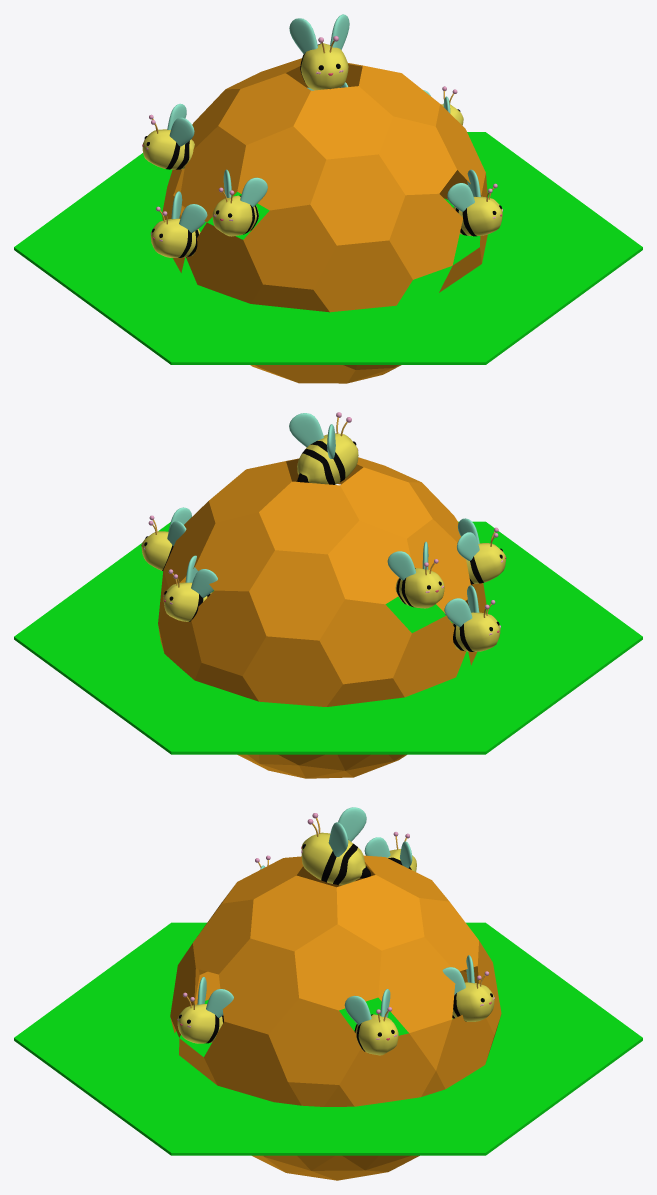
The model's file is Figuras06.glb.
3 views of the same model, one above another, from view 1: azimuth 30°, elevation 25°; view 2: azimuth 150°, elevation 25°; view 3: azimuth 270°, elevation 25° (orthographic).
Visible parts, largest first — view 1: Icosphere.001, Cylinder.007, Body.006, Body.002, Body.003, Body, Body.001; view 2: Icosphere.001, Cylinder.007, Body.006, Body.002, Body.003, Body.001, Body.004, Body.005; view 3: Icosphere.001, Cylinder.007, Body.006, Body.005, Body, Body.004, Body.003.
Part boxes in pixels (box(x1,y1,x2,y2)): Icosphere.001: box(162, 58, 487, 383); Cylinder.007: box(14, 132, 642, 364); Body.006: box(289, 14, 349, 90); Body.002: box(150, 191, 207, 257); Body.003: box(142, 103, 194, 169); Body: box(447, 169, 502, 236); Body.001: box(212, 169, 267, 236); Icosphere.001: box(158, 457, 486, 778); Cylinder.007: box(14, 521, 642, 754); Body.006: box(289, 412, 358, 484); Body.002: box(444, 585, 500, 651); Body.003: box(387, 541, 444, 608); Body.001: box(457, 518, 506, 584); Body.004: box(163, 555, 217, 621); Body.005: box(141, 507, 191, 570); Icosphere.001: box(170, 855, 501, 1180); Cylinder.007: box(14, 922, 642, 1155); Body.006: box(301, 807, 370, 885); Body.005: box(344, 989, 398, 1055); Body: box(177, 977, 233, 1043); Body.004: box(442, 955, 494, 1021); Body.003: box(364, 832, 416, 871).
Bounding box in the file's own units: 5.77 × 4.08 × 6.66.
